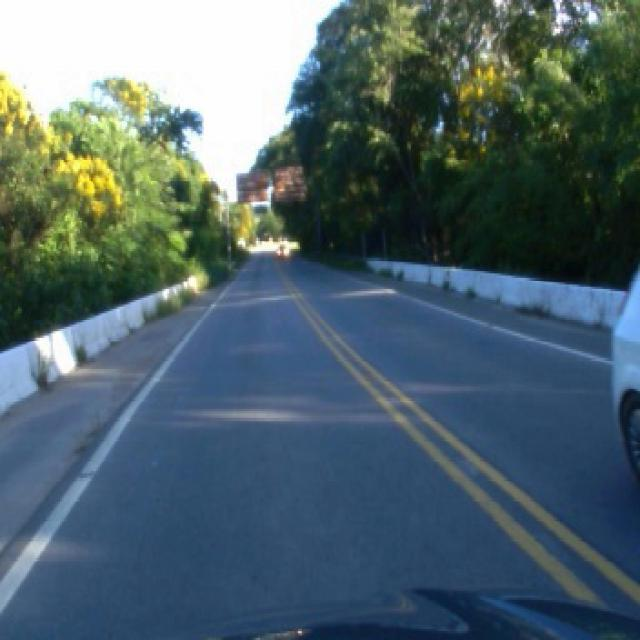Poth-hole: (78, 466, 96, 476)
